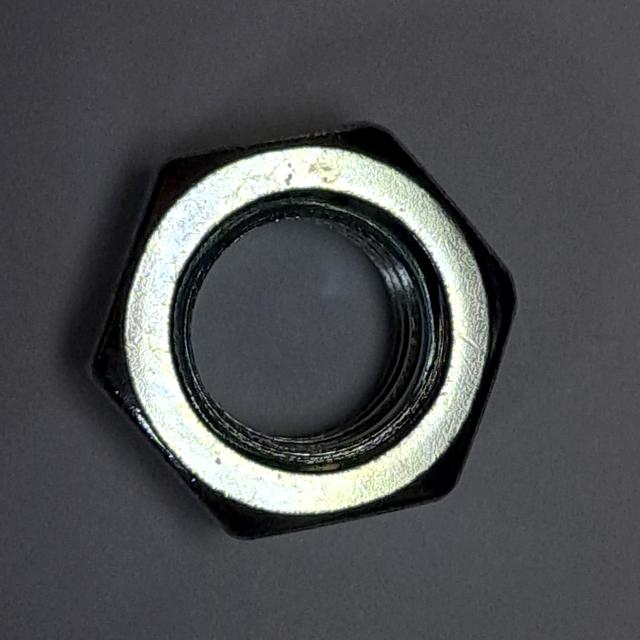Excellent: (70, 109, 527, 558)
